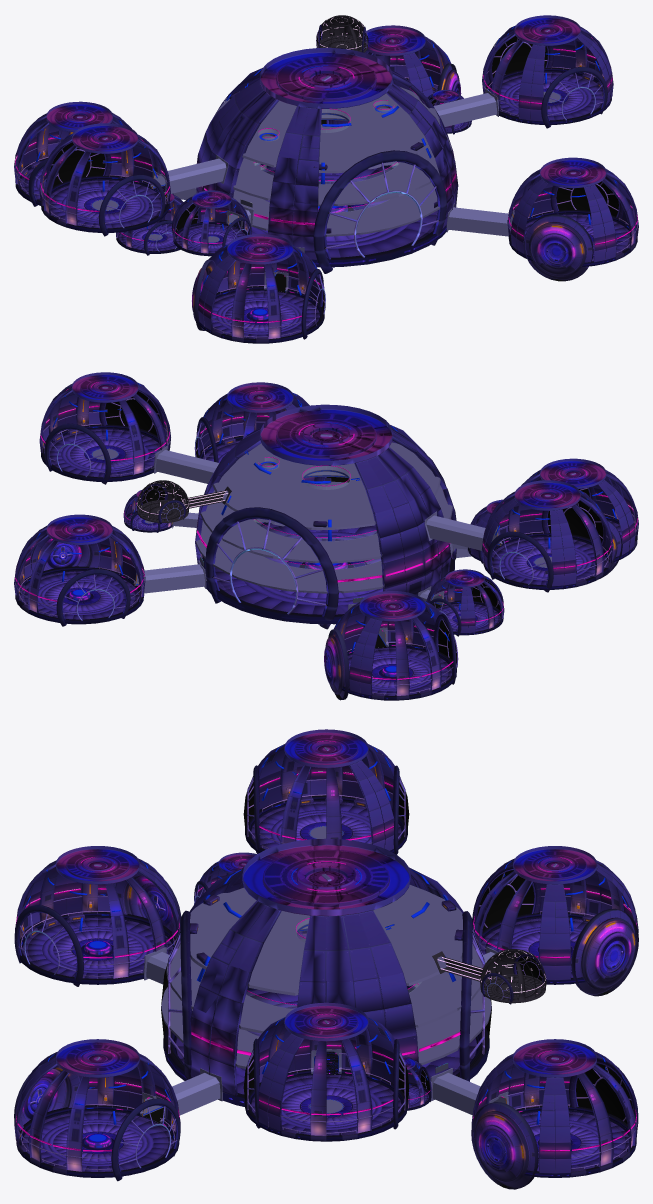
Rendered from station.glb.
3 renders of one model, top to bottom at view 1: azimuth 30°, elevation 25°; view 2: azimuth 150°, elevation 25°; view 3: azimuth 270°, elevation 25°, orthographic. The views are drawn at different scales.
Visible parts, largest first — view 1: Station0, Station6, Station13, Station22, Station4, Station10, Station15, Station7, Station18, Station19, Station5, Station11 (+9 smaller); view 2: Station0, Station22, Station6, Station15, Station4, Station13, Station7, Station10, Station19, Station18, Station5, Station11 (+10 smaller); view 3: Station0, Station6, Station13, Station22, Station15, Station4, Station18, Station10, Station7, Station5, Station11, Station19 (+8 smaller).
Boxes of the visible parts, left/top/right/bottom form: Station0: left=16, top=67, right=637, bottom=343; Station6: left=46, top=15, right=606, bottom=264; Station13: left=36, top=33, right=616, bottom=330; Station22: left=91, top=86, right=561, bottom=242; Station4: left=28, top=25, right=623, bottom=339; Station10: left=15, top=27, right=637, bottom=338; Station15: left=14, top=26, right=638, bottom=290; Station7: left=14, top=28, right=637, bottom=338; Station18: left=59, top=63, right=593, bottom=330; Station19: left=152, top=93, right=512, bottom=291; Station5: left=50, top=29, right=618, bottom=313; Station11: left=36, top=36, right=616, bottom=330; Station0: left=15, top=424, right=637, bottom=700; Station22: left=91, top=442, right=551, bottom=618; Station6: left=46, top=372, right=606, bottom=621; Station15: left=39, top=385, right=638, bottom=642; Station4: left=44, top=390, right=607, bottom=684; Station13: left=24, top=384, right=635, bottom=695; Station7: left=18, top=387, right=635, bottom=691; Station10: left=14, top=380, right=638, bottom=696; Station19: left=135, top=450, right=500, bottom=647; Station18: left=31, top=520, right=622, bottom=700; Station5: left=105, top=391, right=603, bottom=669; Station11: left=18, top=387, right=635, bottom=695; Station0: left=16, top=795, right=636, bottom=1177; Station6: left=56, top=729, right=596, bottom=1077; Station13: left=15, top=744, right=637, bottom=1173; Station22: left=161, top=826, right=491, bottom=1113; Station15: left=17, top=755, right=624, bottom=1123; Station4: left=14, top=765, right=638, bottom=1181; Station18: left=14, top=871, right=638, bottom=1189; Station10: left=17, top=733, right=637, bottom=1171; Station7: left=17, top=745, right=636, bottom=1171; Station5: left=161, top=776, right=633, bottom=1123; Station11: left=14, top=745, right=638, bottom=1172; Station19: left=143, top=952, right=506, bottom=1122.
Size of what is drawn, in the model's own units: 164 by 43.31 by 126.
37 materials, 15 textured.
